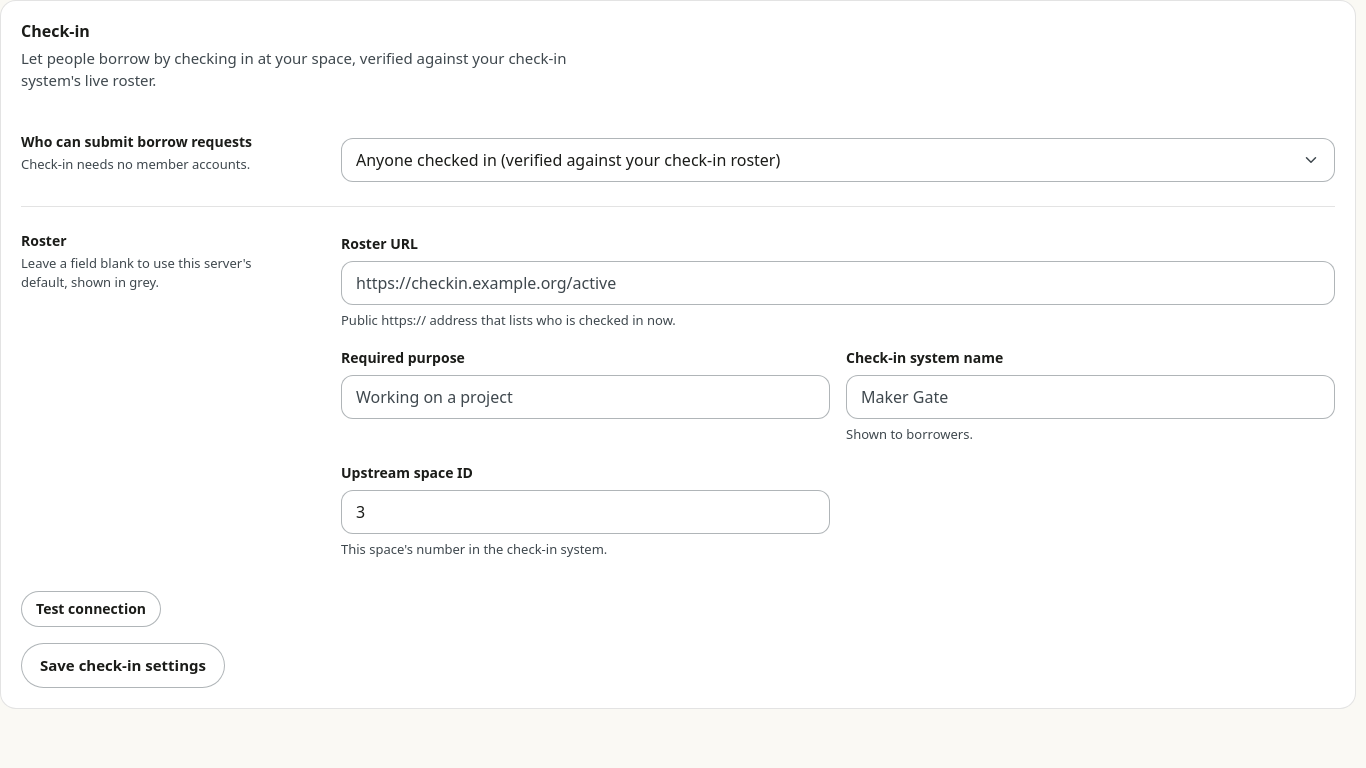
Test case: Check-in settings card › saves the roster and confirms with a toast
Type " https://roster.example.net/now " into the field labelled "Roster URL".
click(838, 283); type(" https://roster.example.net/now ")  # box top-left (341, 261), bottom-right (1335, 305)
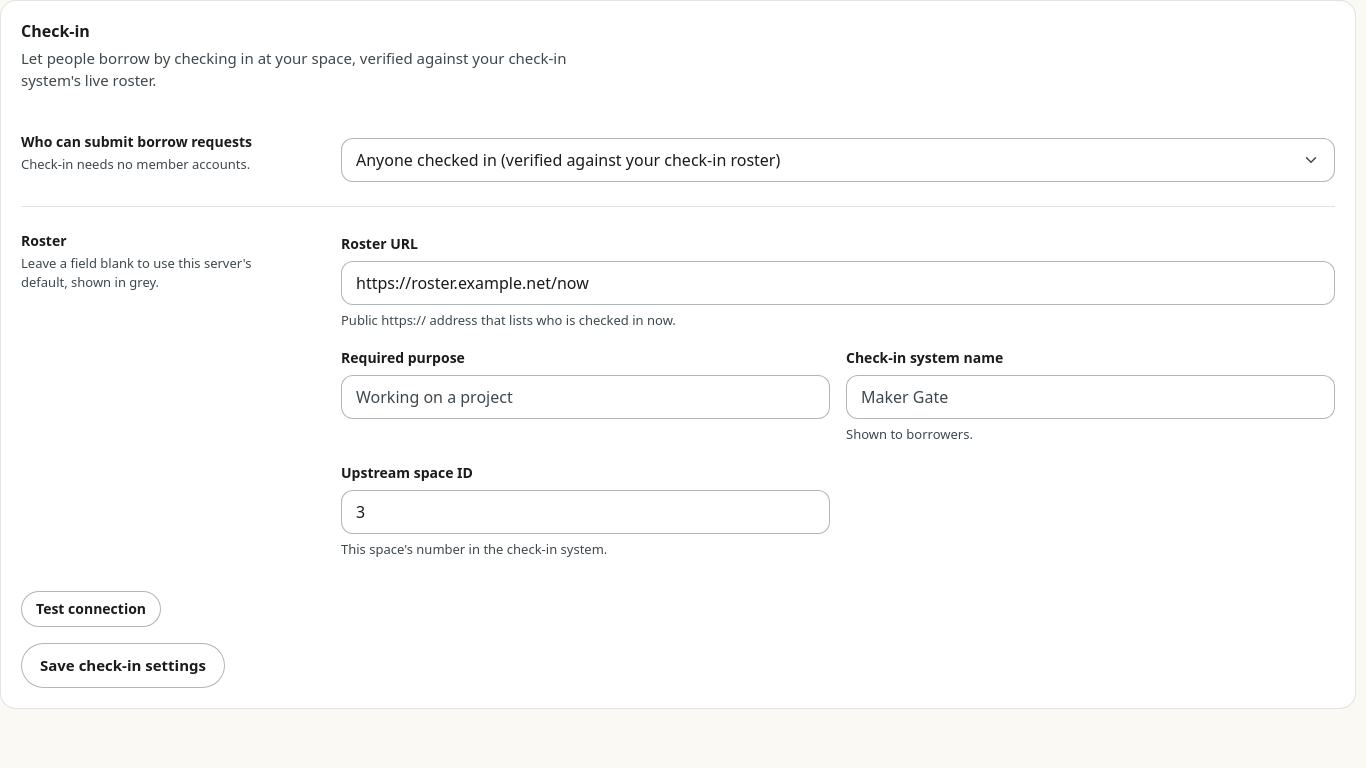
Type "Space Pass" into the field labelled "Check-in system name".
click(1090, 397); type("Space Pass")  # box top-left (846, 375), bottom-right (1335, 419)
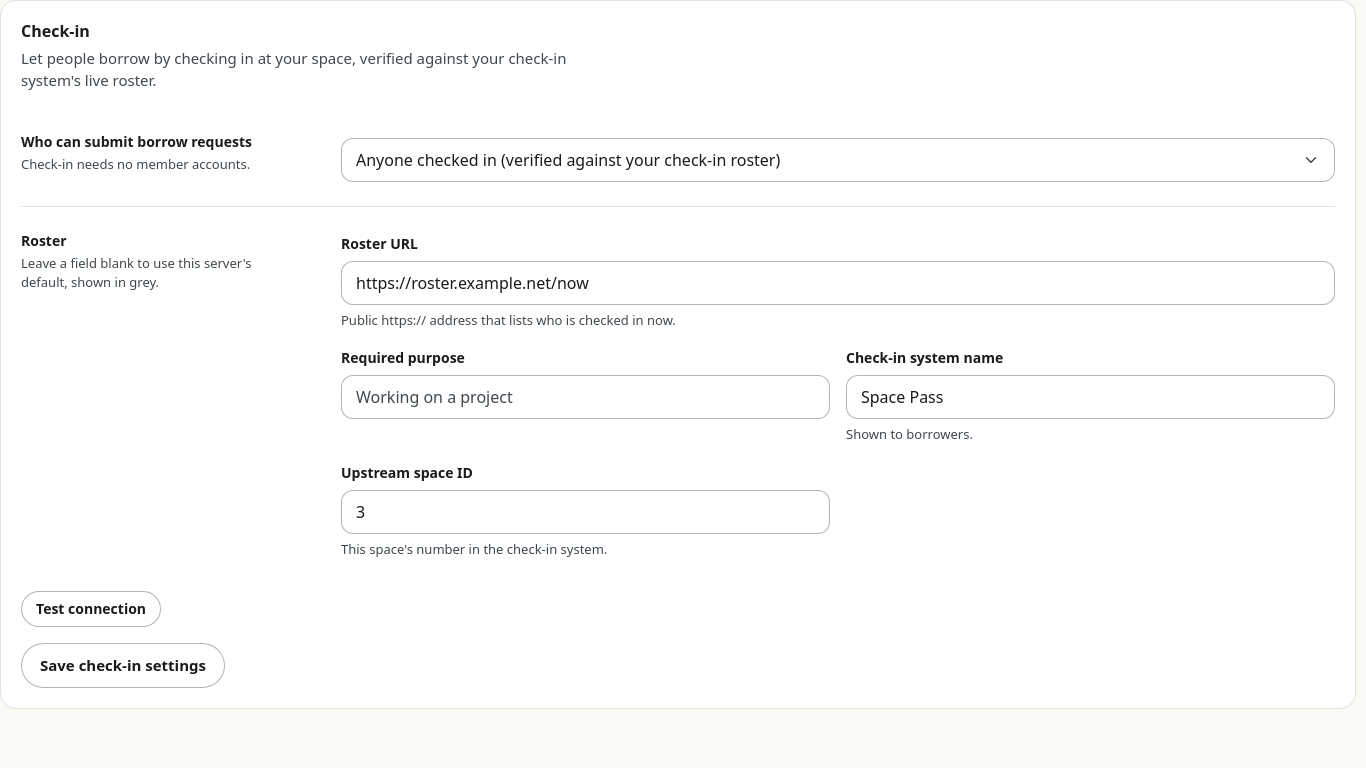
Click the 2nd button named "Save check-in settings".
click(123, 665)  # box top-left (21, 643), bottom-right (225, 688)
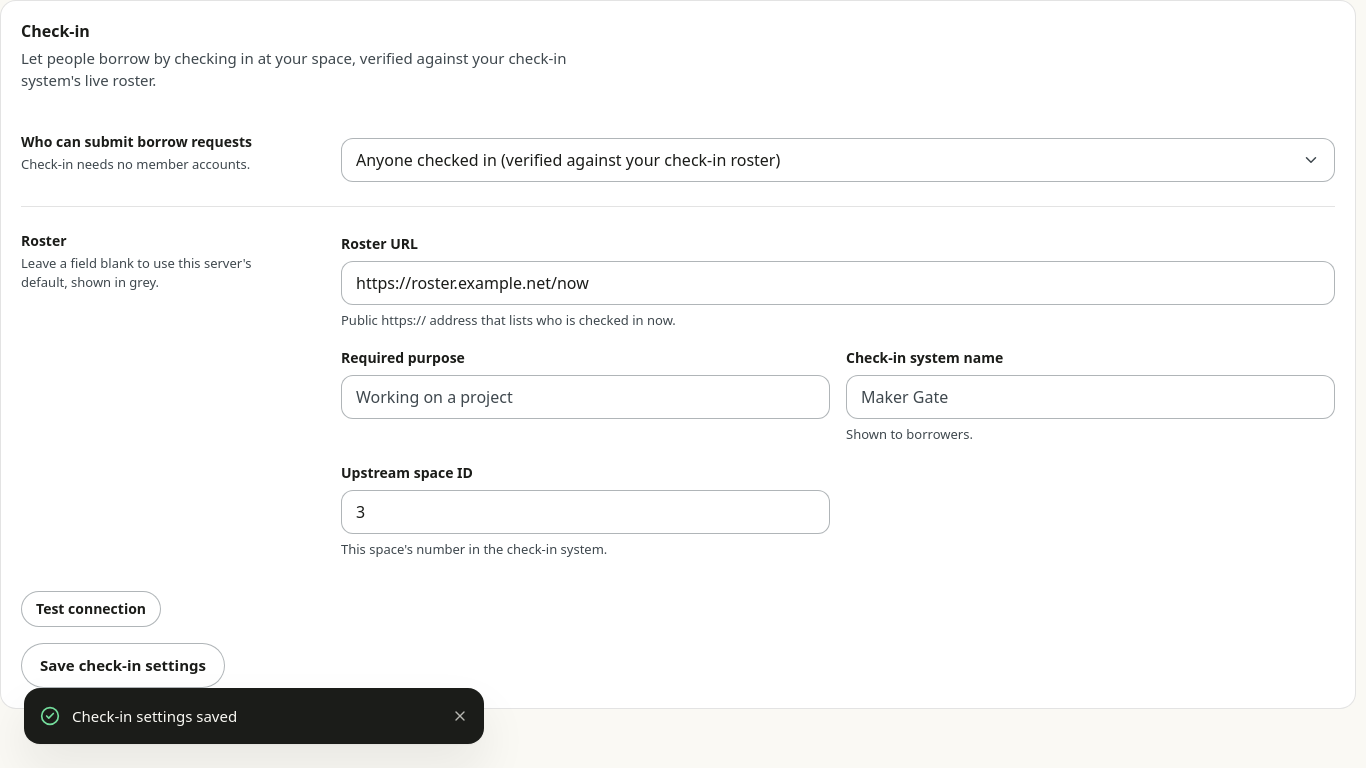
Expected: the text "Check-in settings saved" is shown, top-left (72, 706), bottom-right (237, 726)
